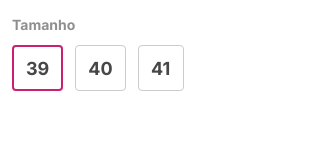
Scenario: ProductOptions component › renders square text options and handles selection
The image size is (332, 160).
Expected: the text "Tamanho" is shown, [12,16,75,33]
What coordinates should you click on to do the following:
click the radio button named "Opção 40"
I would click on:
 (100, 68)
Its box is [75,45,126,91].
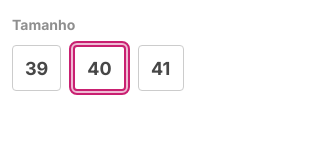
Expected: the radio button named "Opção 40" is checked, [73,45,126,91]
